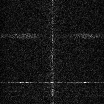wifi: (1, 33, 104, 39), (1, 81, 104, 83)
